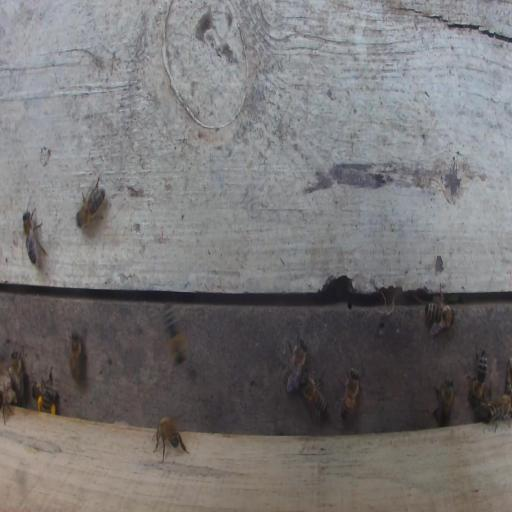bee: (152, 415, 190, 461), (424, 282, 455, 337), (76, 174, 106, 230), (22, 205, 48, 267), (162, 306, 188, 365), (283, 335, 308, 393), (301, 371, 327, 423), (481, 393, 512, 433), (467, 347, 487, 405), (339, 366, 360, 421), (434, 376, 457, 425), (29, 374, 60, 403), (9, 348, 25, 402), (69, 330, 83, 383), (2, 387, 16, 424), (38, 390, 56, 416)
